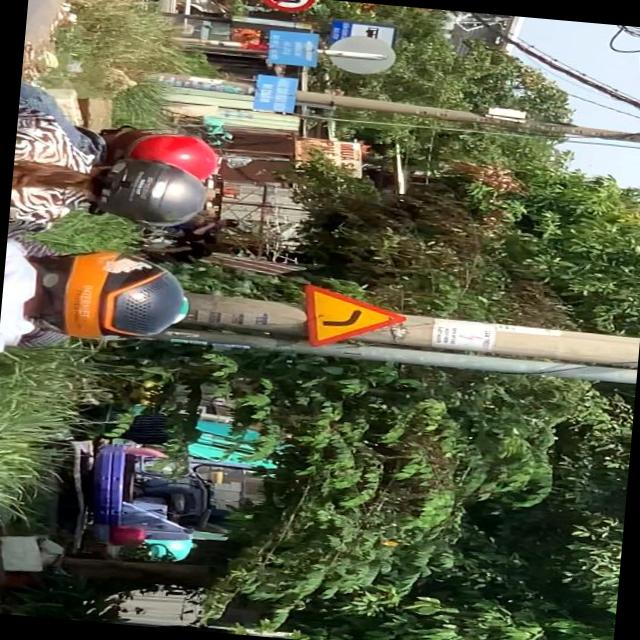W-201a: (305, 280, 406, 352)
